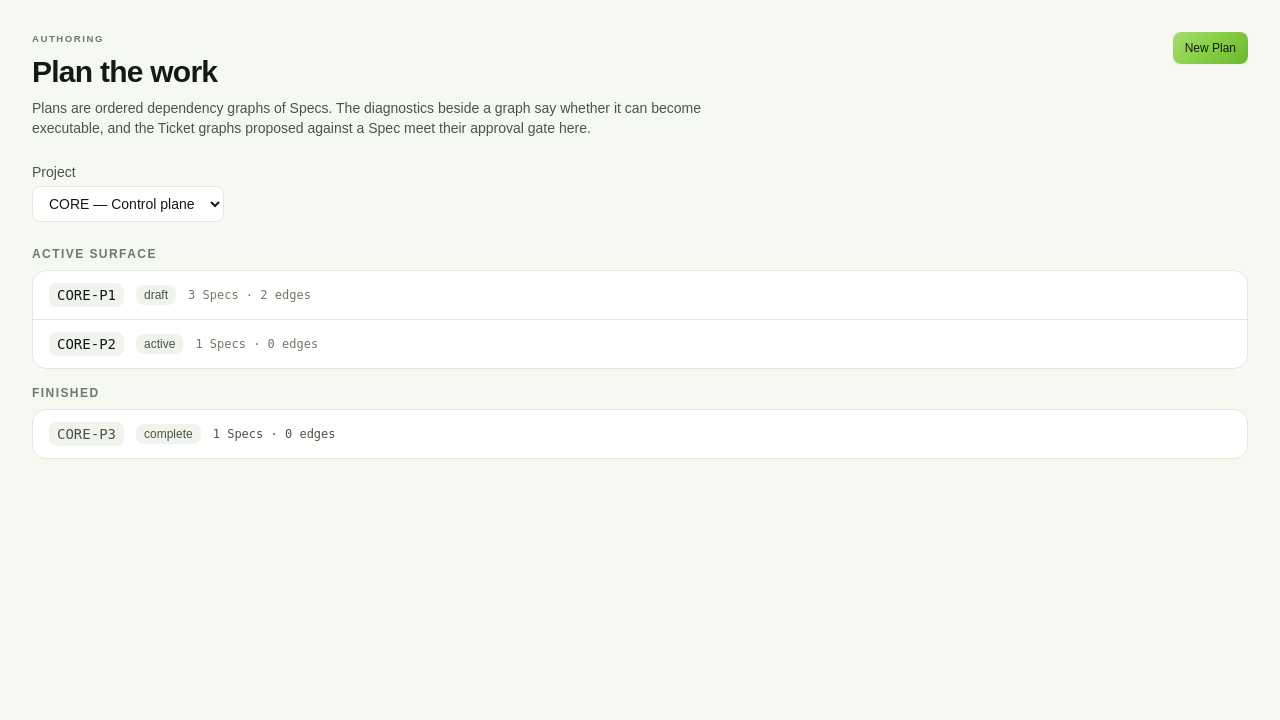
Test: PlanningView › the editor shows the selected plan with both relations
The image size is (1280, 720).
Click the list item with test id "plan-row-1": click(640, 296) [33,271,1247,320]
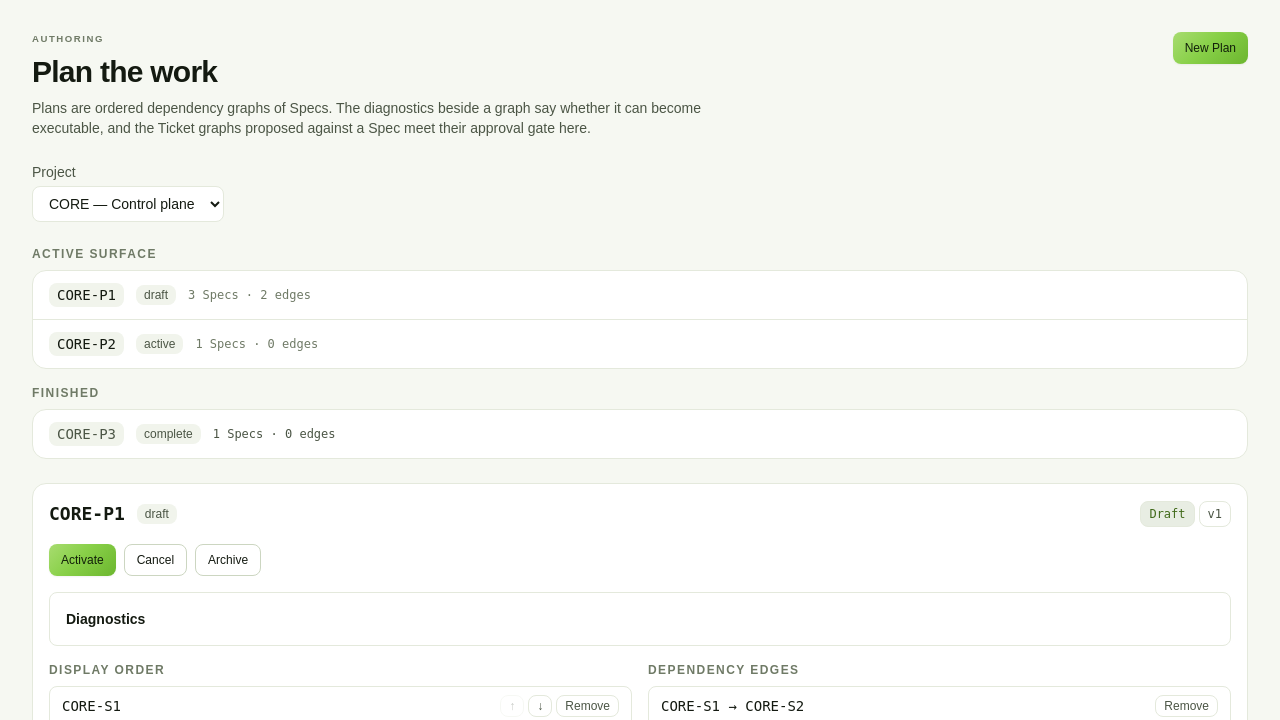
Now the heading with test id "plan-title" reads "CORE-P1", box [49,503,125,524]
Now the text with test id "plan-state" reads "draft", box [145,507,169,521]
